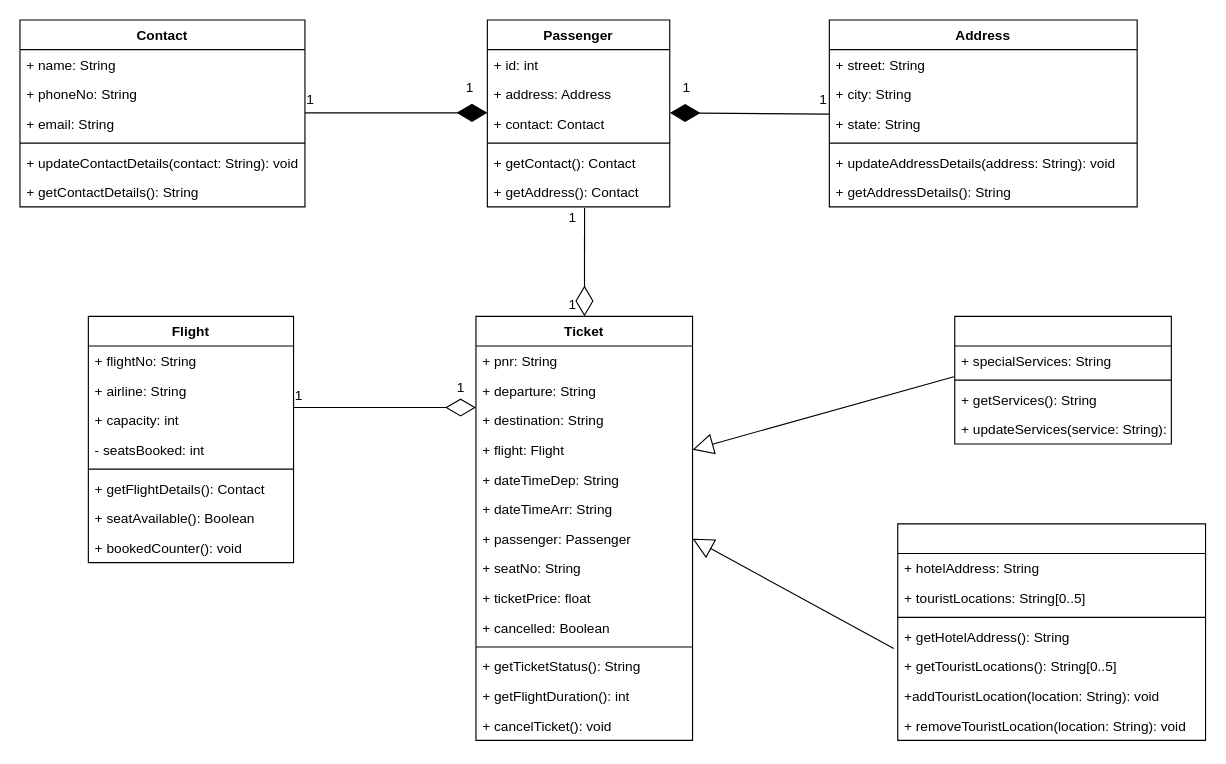
This 1226x764 diagram has some shape labels left out. Each missing label, with the box of its shape:
RegularTicket: (954, 315, 1171, 444)
TouristTicket: (897, 523, 1206, 740)
